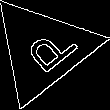P_SW: (11, 19, 76, 80)
